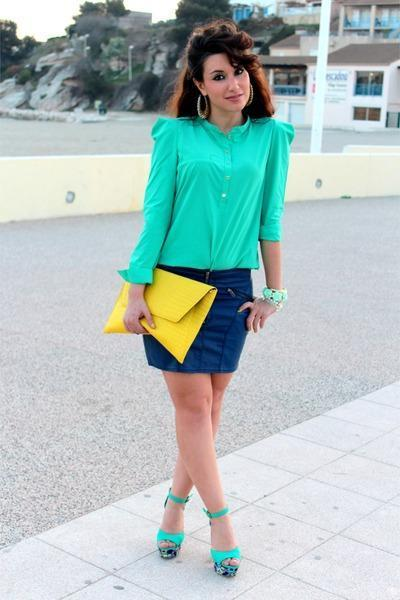bag: (104, 269, 217, 363)
shirt: (119, 116, 293, 283)
shoe: (157, 530, 239, 578)
skirt: (143, 267, 255, 378)
sunglass: (143, 262, 179, 297)
